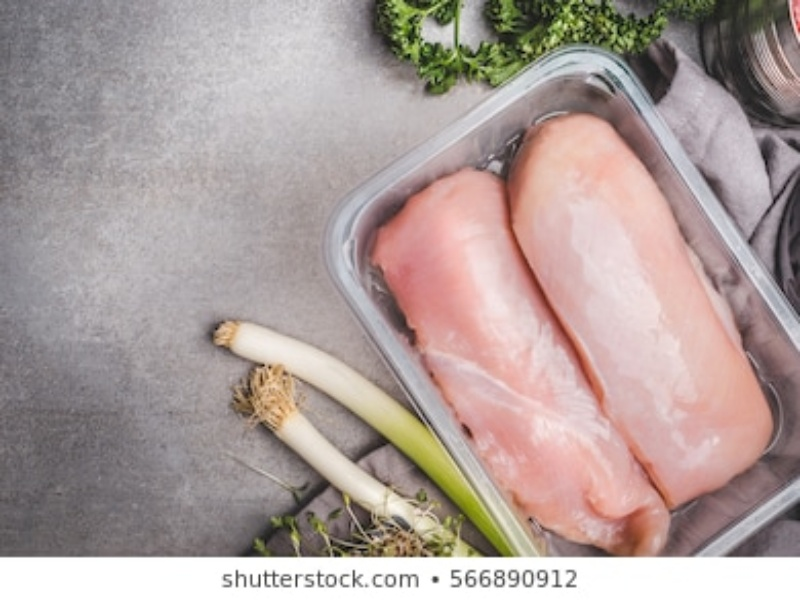plastic-container: (311, 45, 800, 556)
